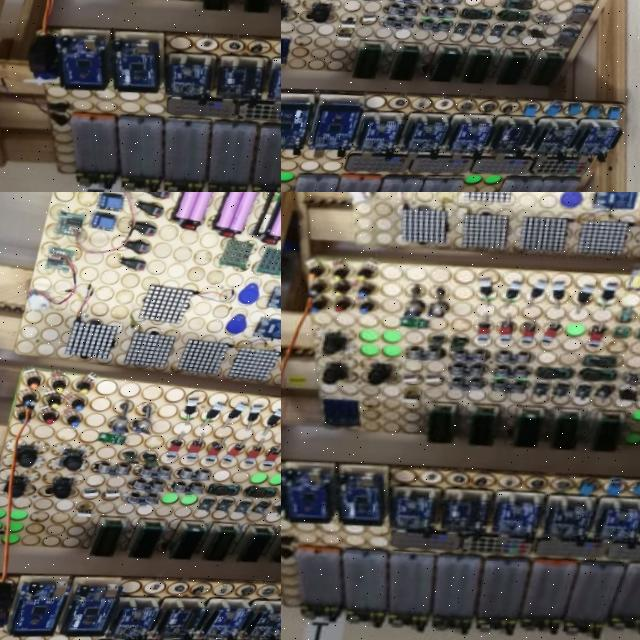Green-circles: (359, 327, 412, 361), (0, 506, 28, 546), (467, 173, 514, 187), (251, 473, 281, 494), (566, 318, 591, 343), (281, 167, 307, 190), (168, 494, 205, 510)
